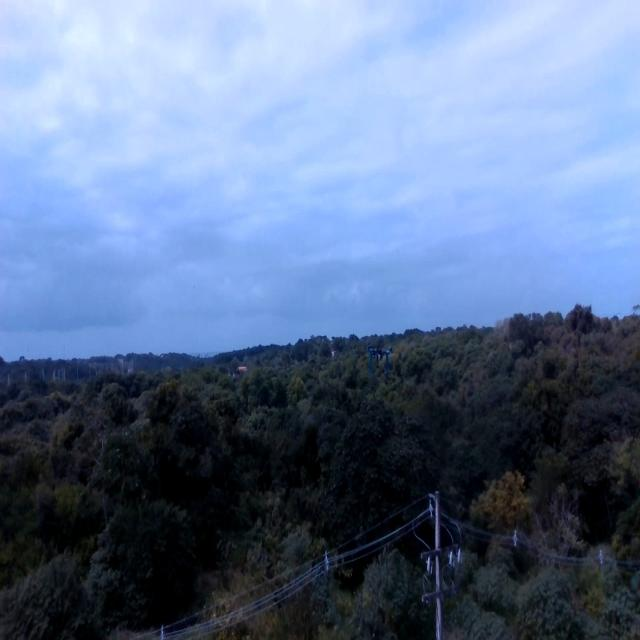-uav-: (362, 331, 399, 385)
